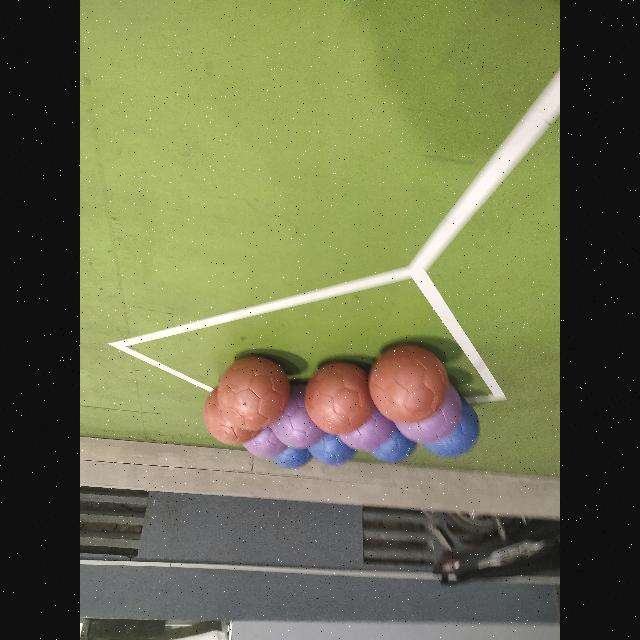B: (424, 399, 480, 456), (309, 417, 356, 465), (369, 420, 416, 462), (272, 433, 312, 469)
P: (396, 384, 462, 444), (271, 384, 325, 448), (338, 406, 396, 450)
R: (368, 345, 448, 423), (217, 356, 290, 429), (304, 363, 374, 435)
